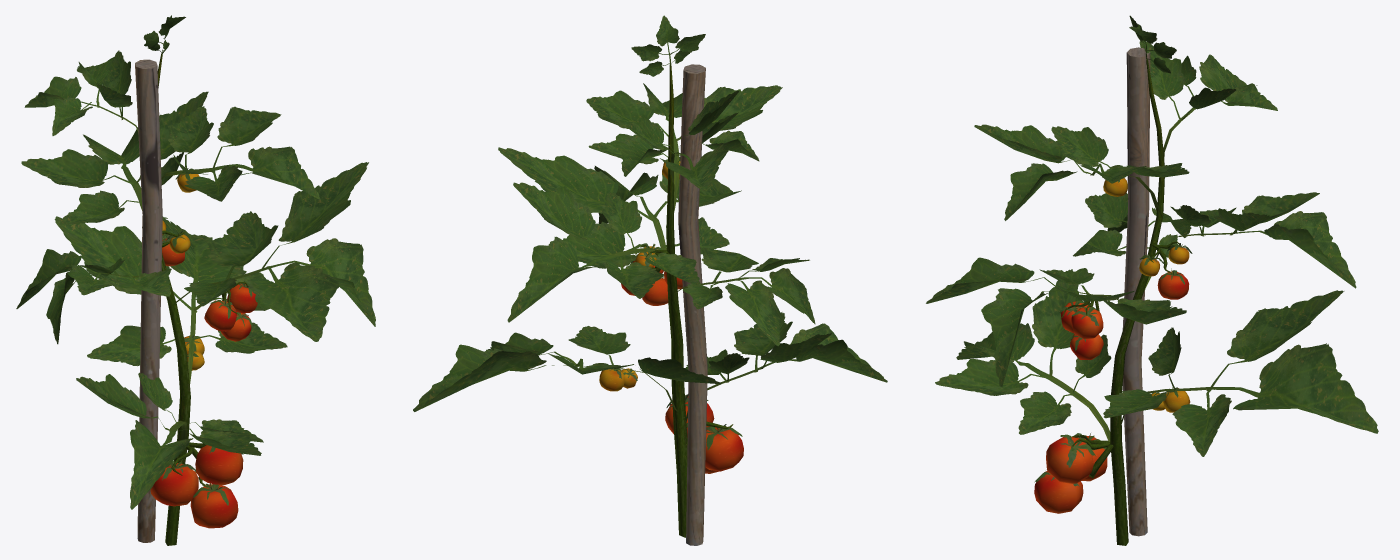
Rendered from tomato.dae.
3 renders of one model, left to right at view 1: azimuth 30°, elevation 25°; view 2: azimuth 150°, elevation 25°; view 3: azimuth 270°, elevation 25°, orthographic.
Visible parts, largest first — view 1: SM_KB3D_MTM_PropCropTomatoes_A_Main; view 2: SM_KB3D_MTM_PropCropTomatoes_A_Main; view 3: SM_KB3D_MTM_PropCropTomatoes_A_Main.
Boxes of the visible parts, <box> form: SM_KB3D_MTM_PropCropTomatoes_A_Main: <box>16,15,375,545</box>; SM_KB3D_MTM_PropCropTomatoes_A_Main: <box>413,15,887,545</box>; SM_KB3D_MTM_PropCropTomatoes_A_Main: <box>926,15,1378,545</box>.
Size of the model in its own units: 0.6236 by 0.7672 by 0.9591.
Materials: 2 (2 with a texture image).
